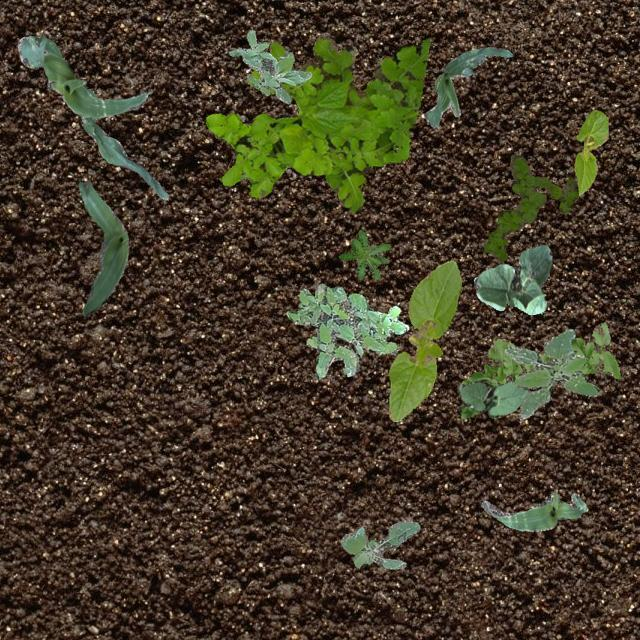crop: (16, 35, 168, 198), (386, 260, 461, 420), (424, 46, 512, 126), (78, 178, 128, 316), (472, 244, 552, 314), (480, 488, 586, 530), (574, 108, 608, 194), (456, 379, 530, 416)
weed: (204, 34, 430, 212), (458, 320, 620, 418), (286, 282, 408, 378), (482, 154, 578, 260), (503, 328, 598, 418), (228, 28, 310, 102), (339, 520, 418, 568), (338, 228, 390, 278)
